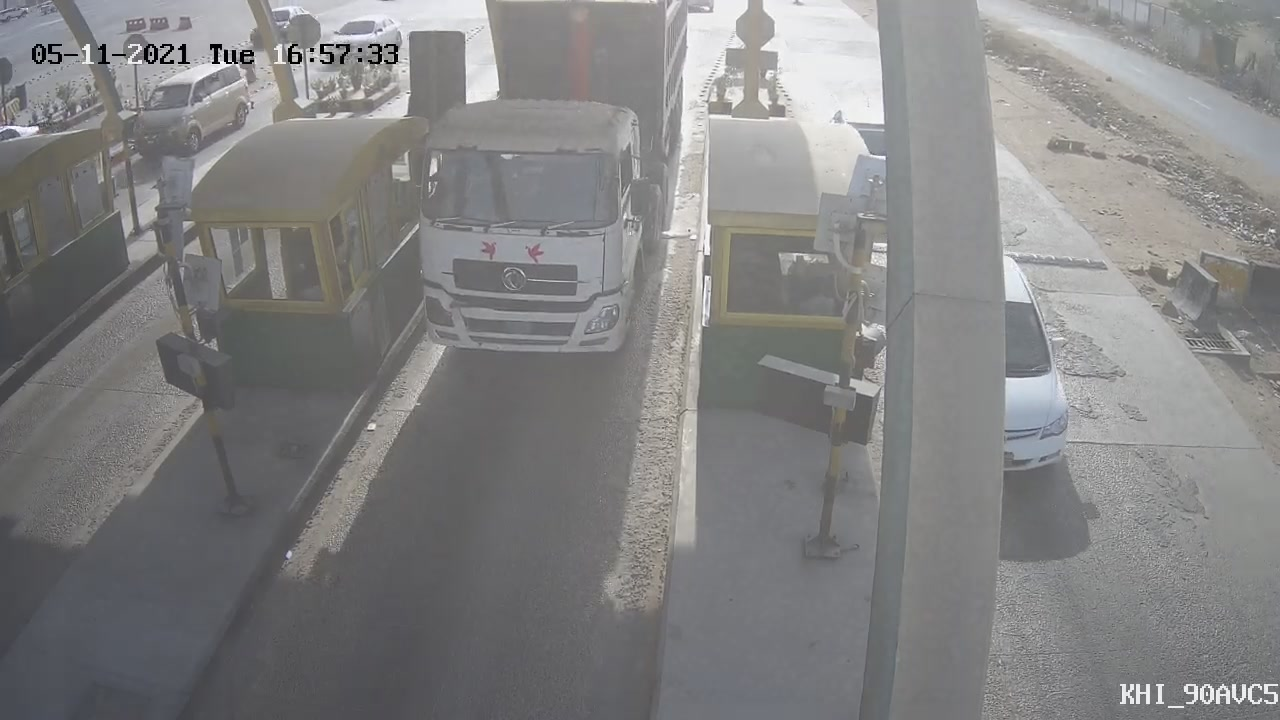F6: (379, 1, 716, 382)
